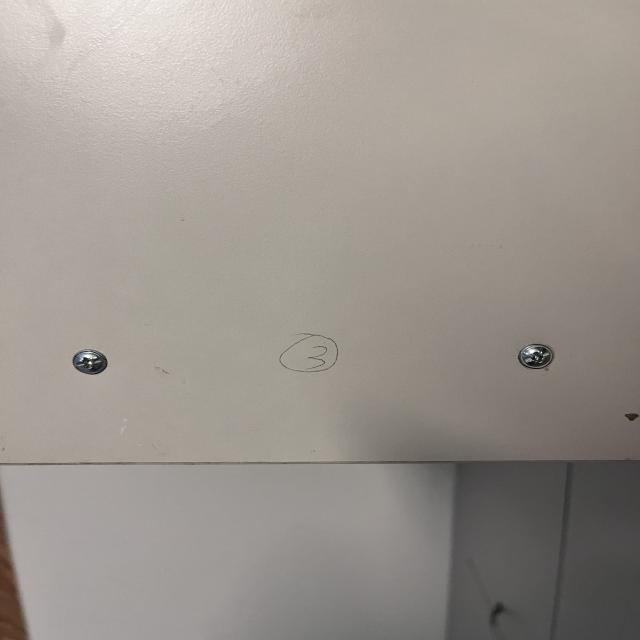pozidriv: (72, 348, 108, 375), (518, 344, 554, 369)
